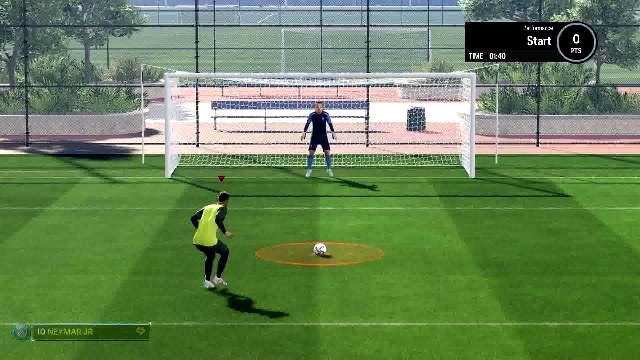bottom-left: (170, 132, 266, 178)
bottom-right: (368, 131, 469, 177)
center-down: (268, 131, 366, 177)
center-up: (266, 80, 368, 131)
circle: (256, 242, 388, 268)
football: (12, 322, 30, 342), (312, 243, 328, 255), (314, 244, 328, 256)
goalkeeper: (302, 100, 344, 180)
player: (187, 187, 237, 295)
top-left: (170, 80, 264, 132)
top-right: (370, 80, 470, 132)
